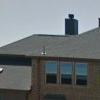Chimney: (58, 10, 82, 47)
